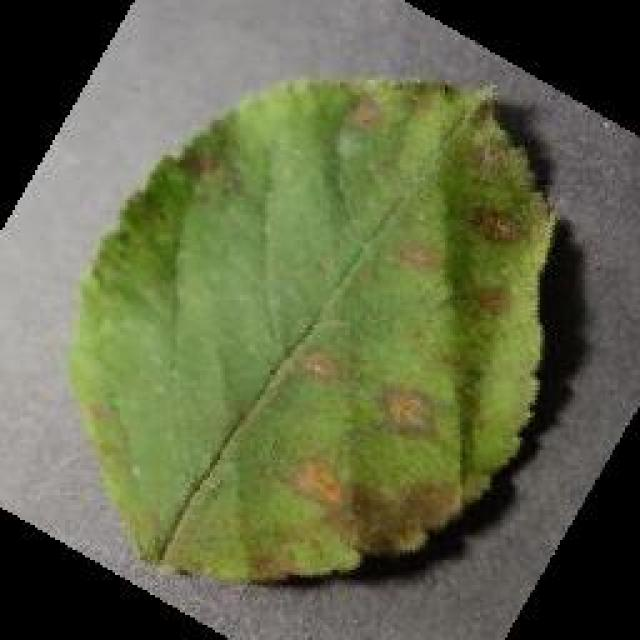apple healthy: (65, 73, 557, 585)
